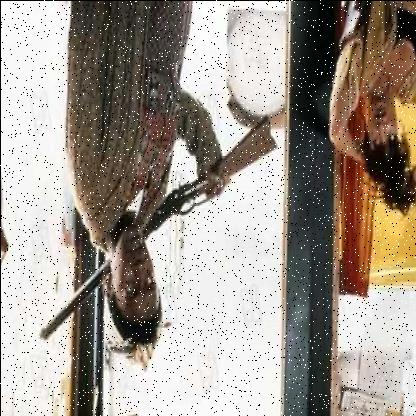rifle: (34, 95, 279, 345)
